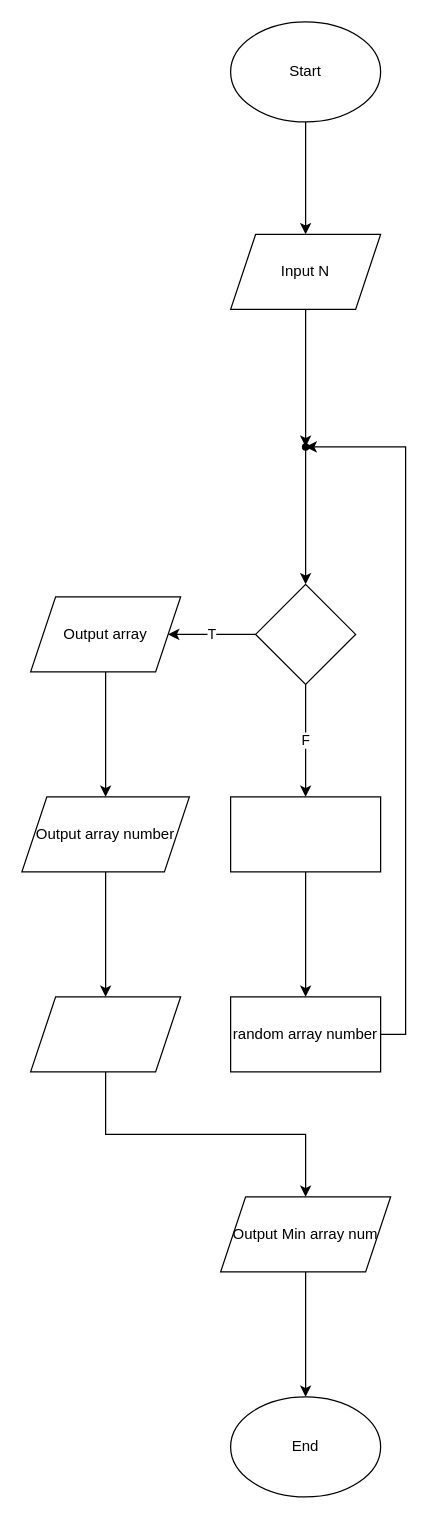
This 438x1519 diagram has some shape labels left out. The centre of each missing label's shape, as x and y in pixels:
Array = N - 1: point (305, 633)
Make new array storage: point (305, 834)
Output Max array num: point (105, 1034)
